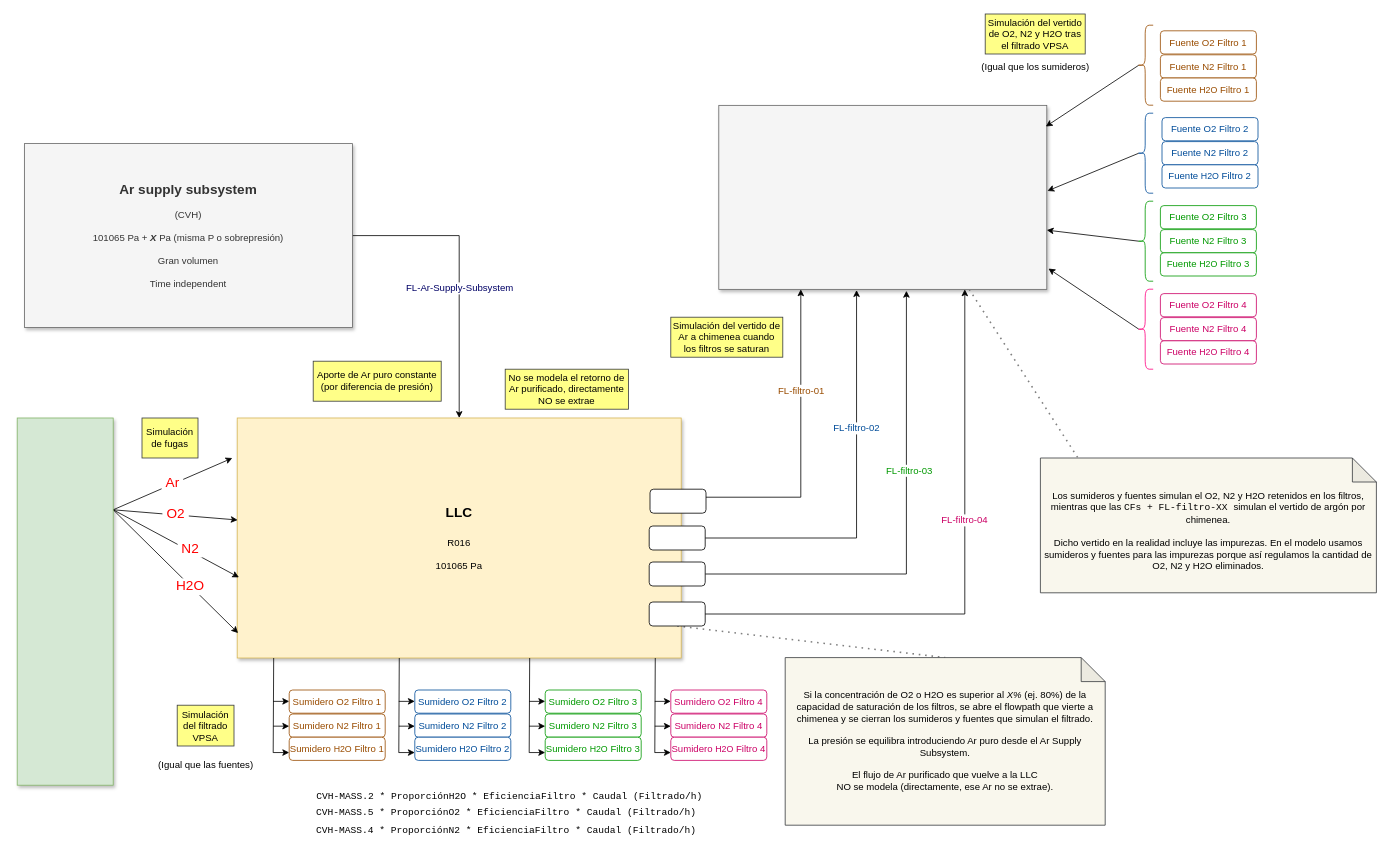
Image size: 1390x857. Some labels were removed from this diagram. The shapes that lost their labels are listed below. From the top down, each one's centre as x and y in pixels, then its label:
At pixel 883 198: "ENV Chimenea (CVH) Presión ambiente = 101325 Pa Gran volumen Time dependent".
At pixel 677 500: "CF-01".
At pixel 676 537: "CF-02".
At pixel 676 573: "CF-03".
At pixel 65 602: "PASILLO C002 101195 Pa".
At pixel 676 613: "CF-04".
